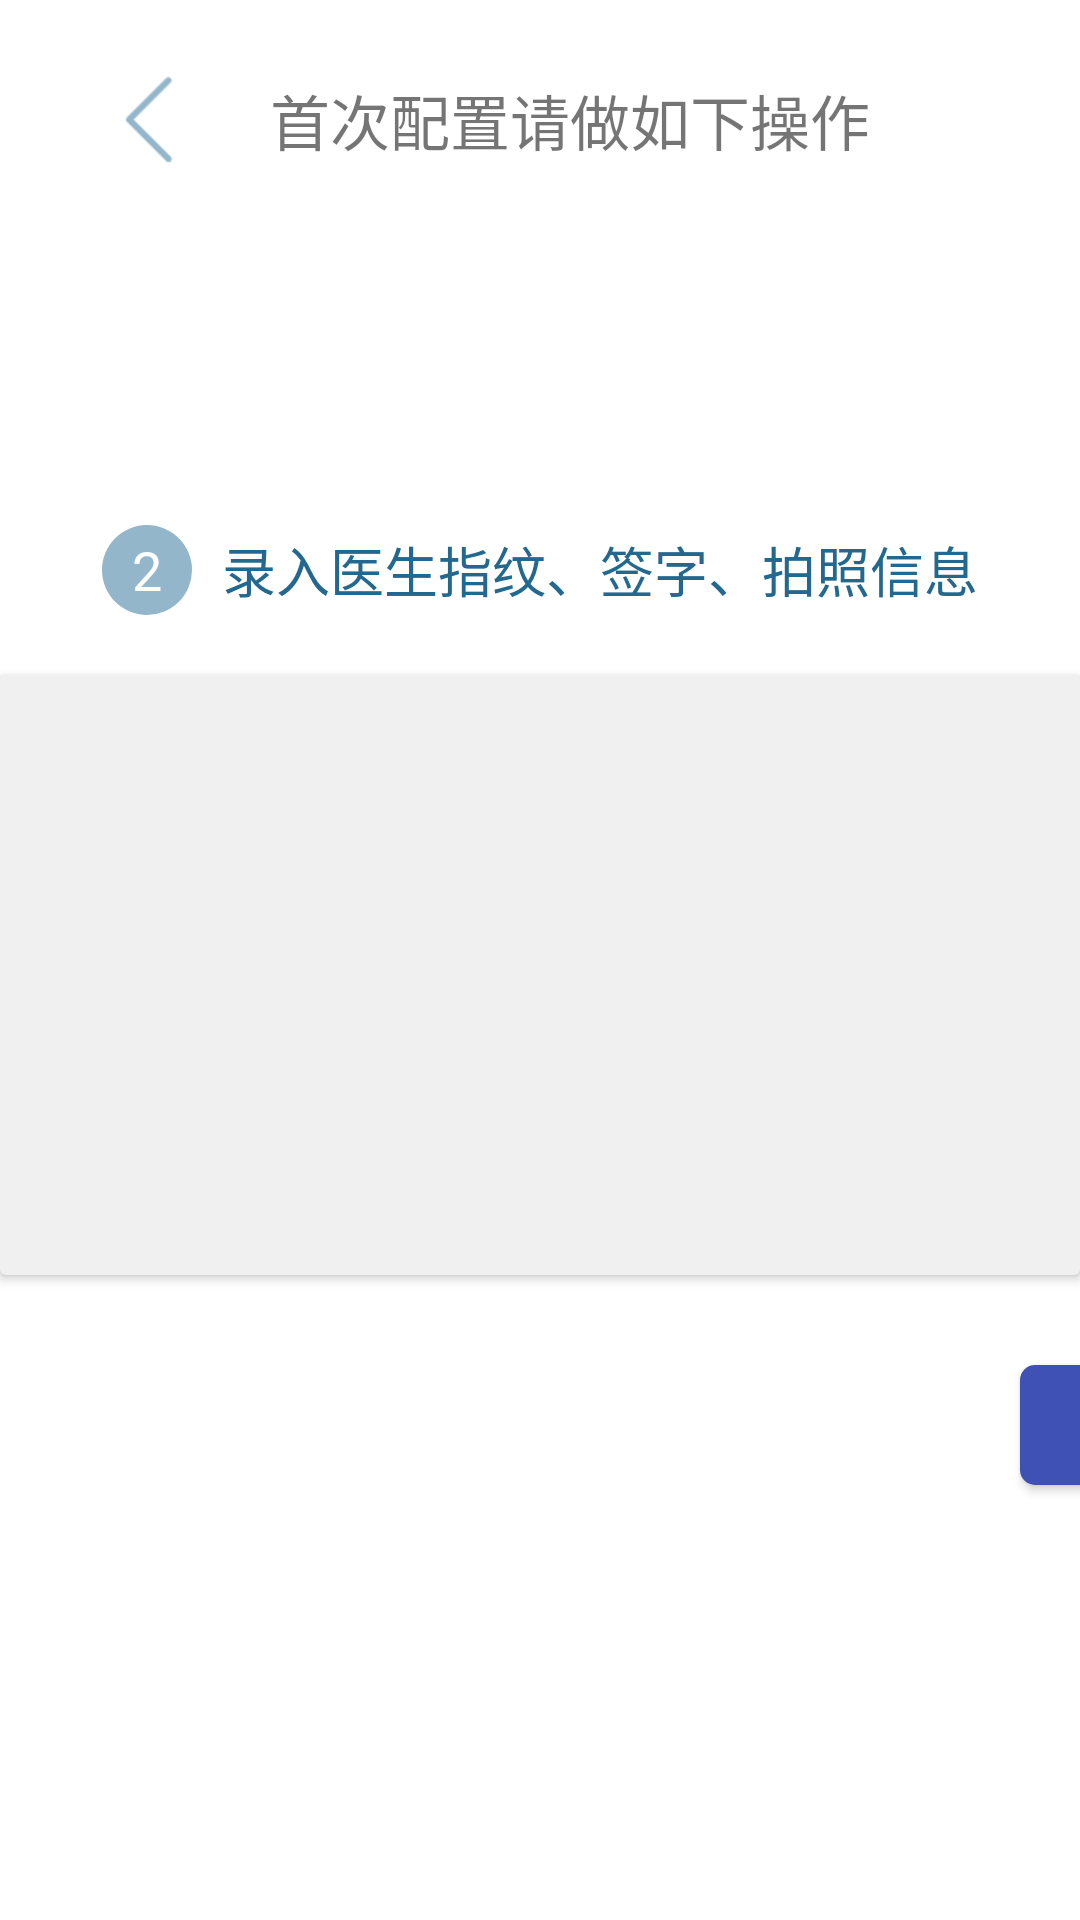

Icon click points for this 1080px x 1920px phone screenshot, format point (x, y):
back: point (149, 119)
